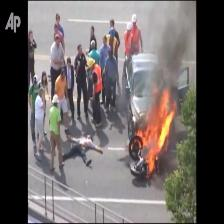fire: (133, 83, 183, 193)
nofire: (120, 13, 148, 61), (92, 61, 111, 97)
smoke: (156, 2, 198, 85)
